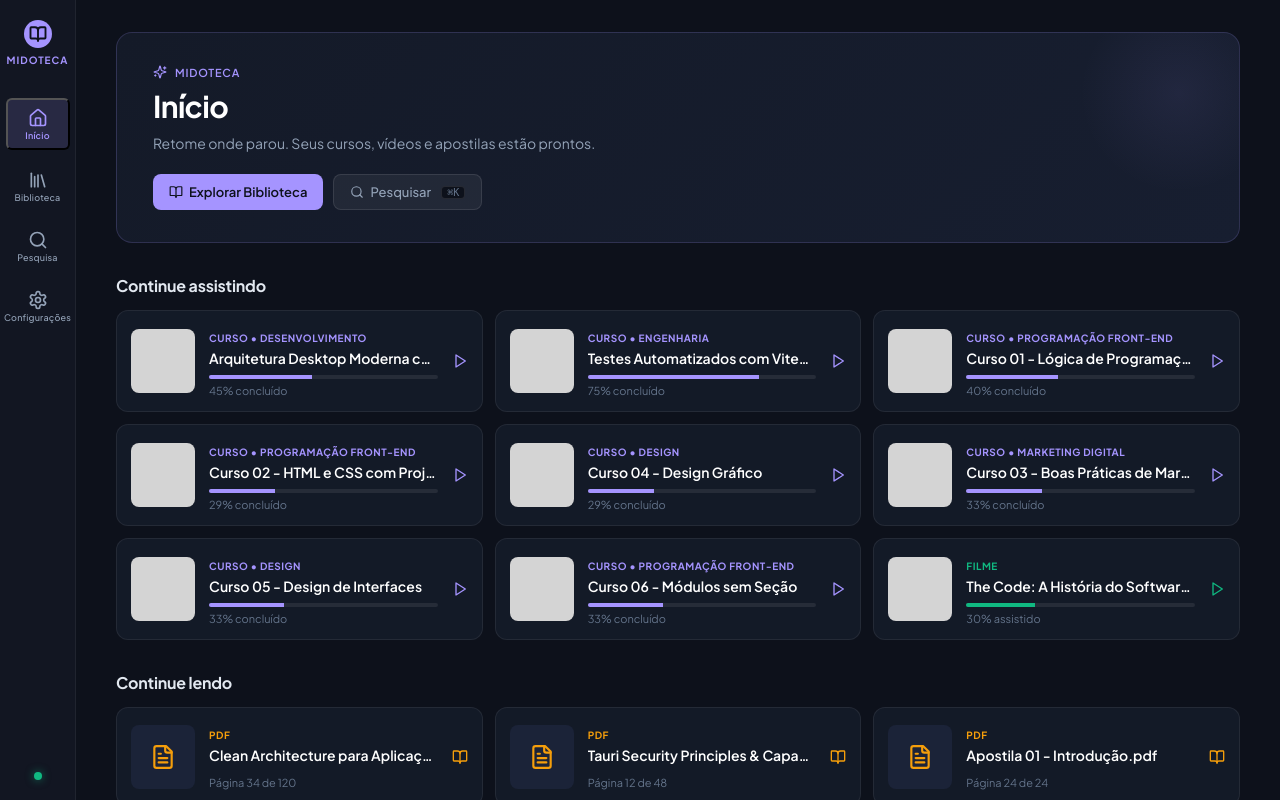
Test: MIDOTECA — primeiro acesso › não expõe o atalho de demonstração no runtime desktop
Step 1. Click the button labelled "Configurações" → (38, 306), box [6,282,70,330]
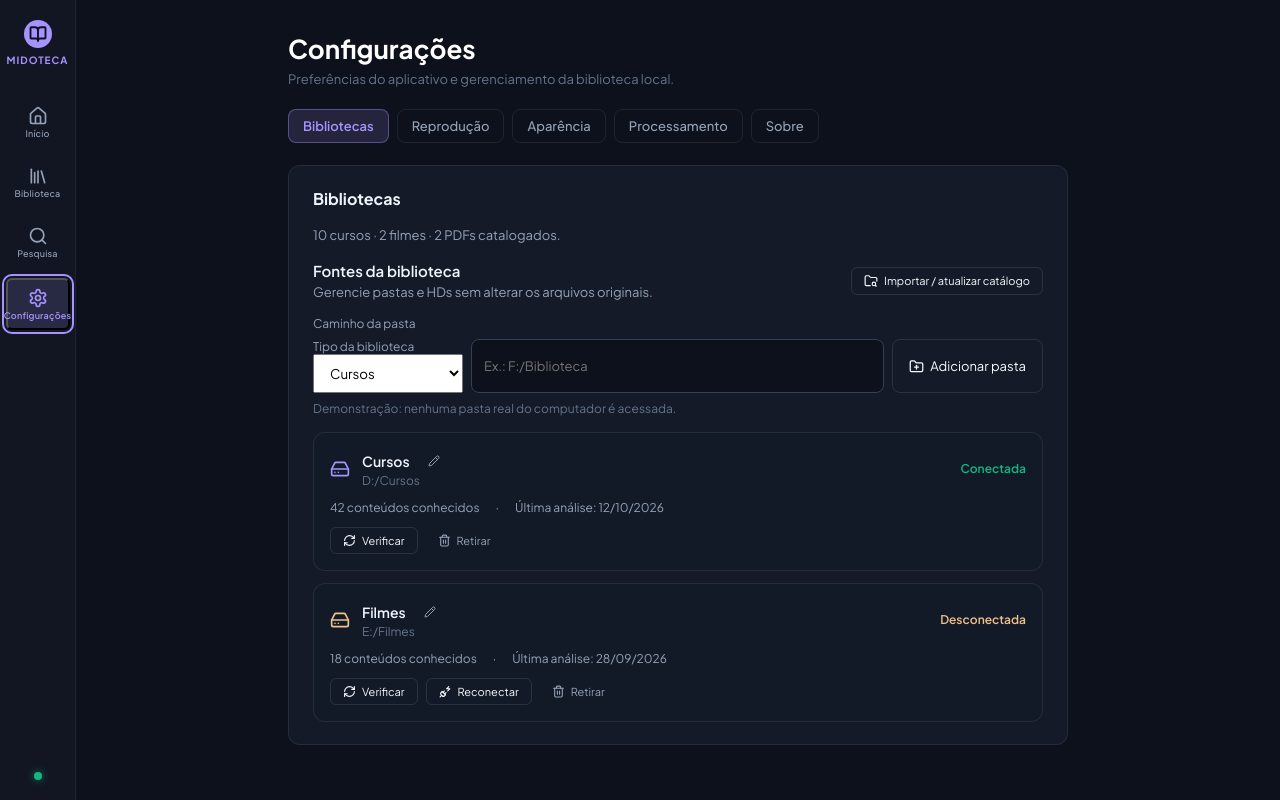
expect the element with test id "settings-view" is shown: met
